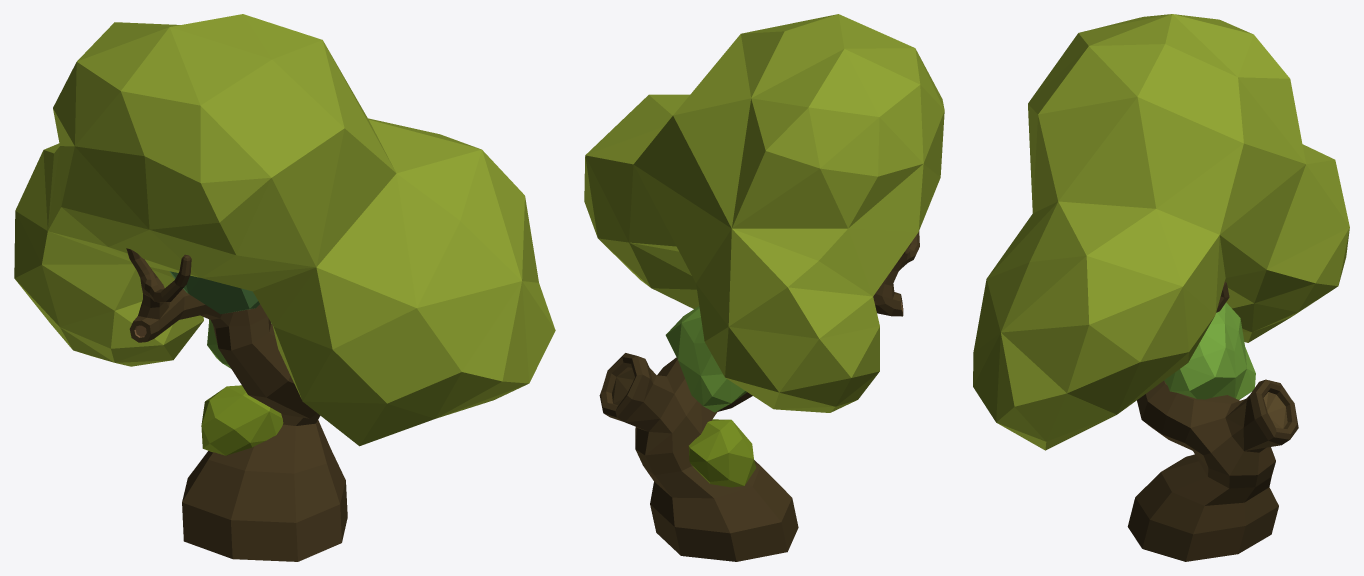
The model's file is EM_Tree2b.fbx.
3 renders of one model, left to right at view 1: azimuth 30°, elevation 25°; view 2: azimuth 150°, elevation 25°; view 3: azimuth 270°, elevation 25°, orthographic. The views are drawn at different scales.
Parts seen in each view (by area): view 1: EM_Tree2b_LOD0; view 2: EM_Tree2b_LOD0; view 3: EM_Tree2b_LOD0.
Boxes of the visible parts, x1,y1,x2,y2 form: EM_Tree2b_LOD0: (14, 14, 555, 561); EM_Tree2b_LOD0: (584, 14, 944, 561); EM_Tree2b_LOD0: (973, 14, 1349, 561).
Size of what is drawn, in the model's own units: 5.12 by 6.56 by 4.77.
